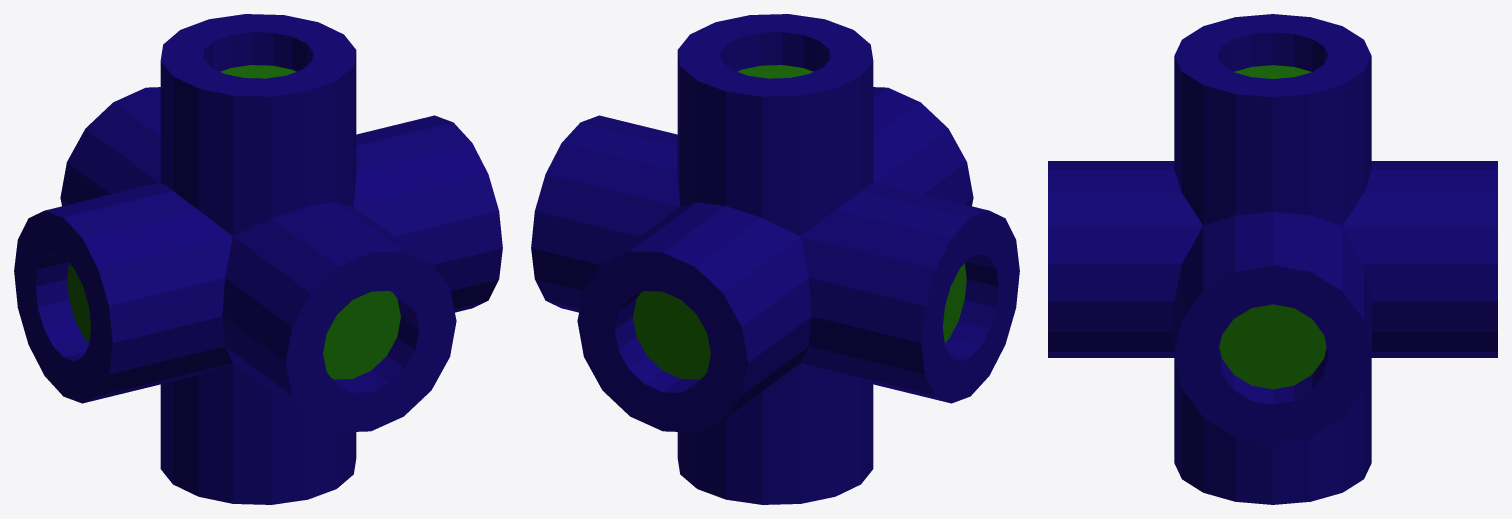
File: 20_Connector.fbx
The picture shows the model from 3 angles, left to right: view 1: azimuth 30°, elevation 25°; view 2: azimuth 150°, elevation 25°; view 3: azimuth 270°, elevation 25°; orthographic projection.
Parts seen in each view (by area): view 1: Connector; view 2: Connector; view 3: Connector.
Part boxes in pixels (x1=…): Connector: x1=14, y1=14, x2=502, y2=504; Connector: x1=531, y1=14, x2=1019, y2=504; Connector: x1=1048, y1=14, x2=1497, y2=504.
Size of the model in its own units: 100 by 100 by 100.
